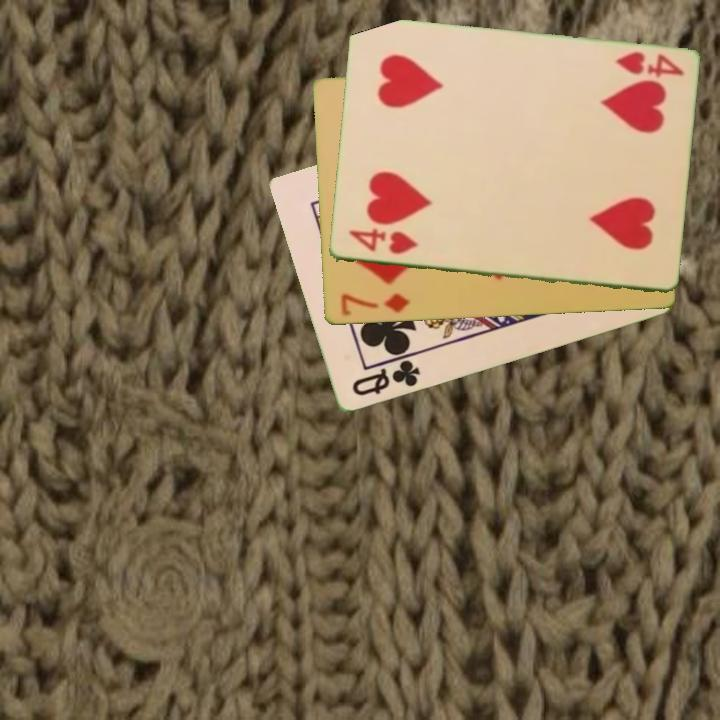4h: (611, 48, 686, 81), (345, 226, 421, 258)
7d: (337, 289, 412, 319)
Qc: (348, 352, 423, 400)
